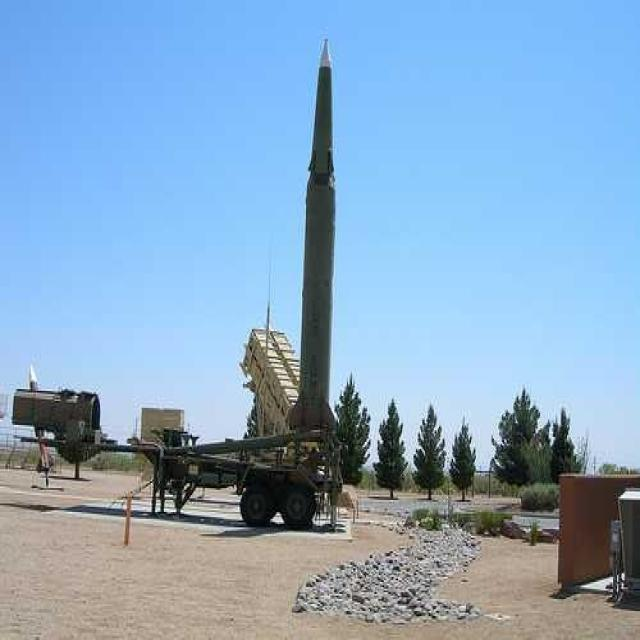missile: (295, 29, 351, 431)
